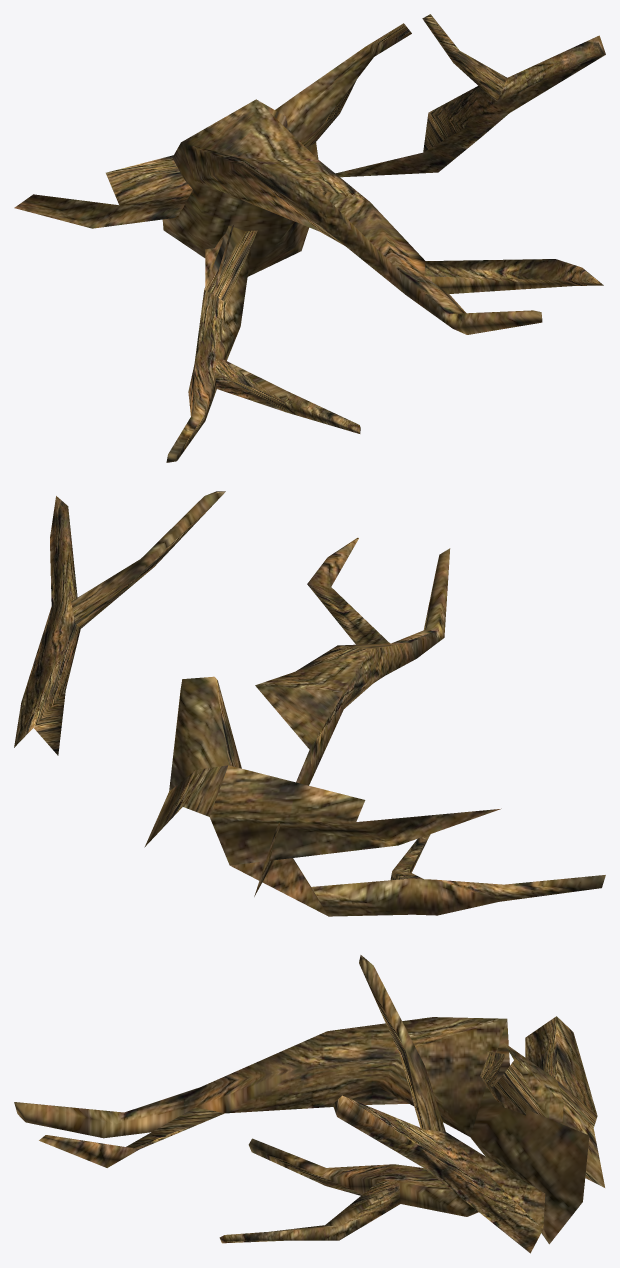
The picture shows the model from 3 angles, top to bottom: view 1: azimuth 30°, elevation 25°; view 2: azimuth 150°, elevation 25°; view 3: azimuth 270°, elevation 25°; orthographic projection. The views are drawn at different scales.
Visible parts, largest first — view 1: model_Object30; view 2: model_Object30; view 3: model_Object30.
Boxes of the visible parts, x1,y1,x2,y2 form: model_Object30: (14,14,605,462); model_Object30: (14,491,605,916); model_Object30: (14,955,604,1253).
Bounding box in the file's own units: 3.27 × 2.13 × 3.14.
1 material, 1 textured.
